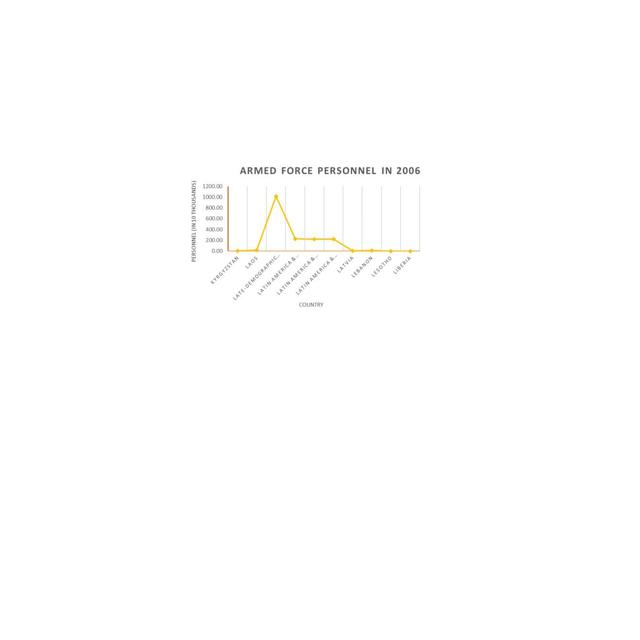Graph: (187, 162, 424, 314)
